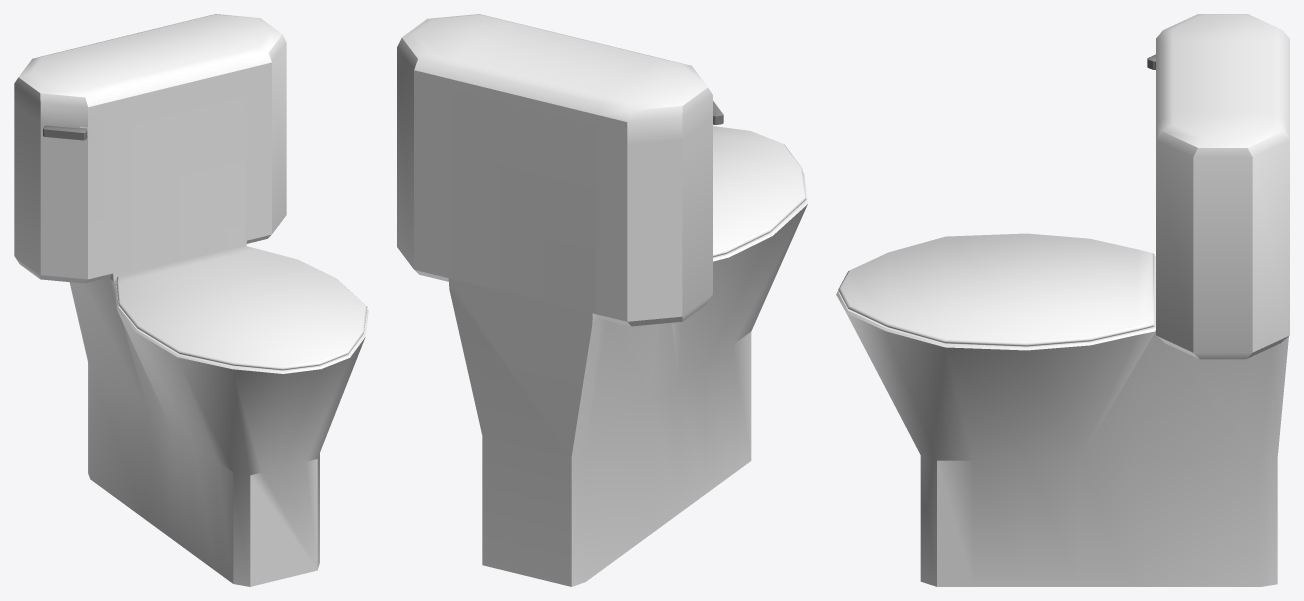
File: toilet.fbx
The picture shows the model from 3 angles, left to right: view 1: azimuth 30°, elevation 25°; view 2: azimuth 150°, elevation 25°; view 3: azimuth 270°, elevation 25°; orthographic projection. The views are drawn at different scales.
Parts seen in each view (by area): view 1: Toilet, Lid, Handle; view 2: Toilet, Lid; view 3: Toilet, Lid.
Boxes of the visible parts, x1,y1,x2,y2 form: Toilet: (14, 14, 368, 586); Lid: (116, 245, 367, 370); Handle: (43, 125, 87, 140); Toilet: (397, 14, 807, 586); Lid: (713, 126, 806, 257); Toilet: (836, 14, 1289, 586); Lid: (838, 233, 1154, 346).
Size of the model in its own units: 54.6 by 89.89 by 76.03.
